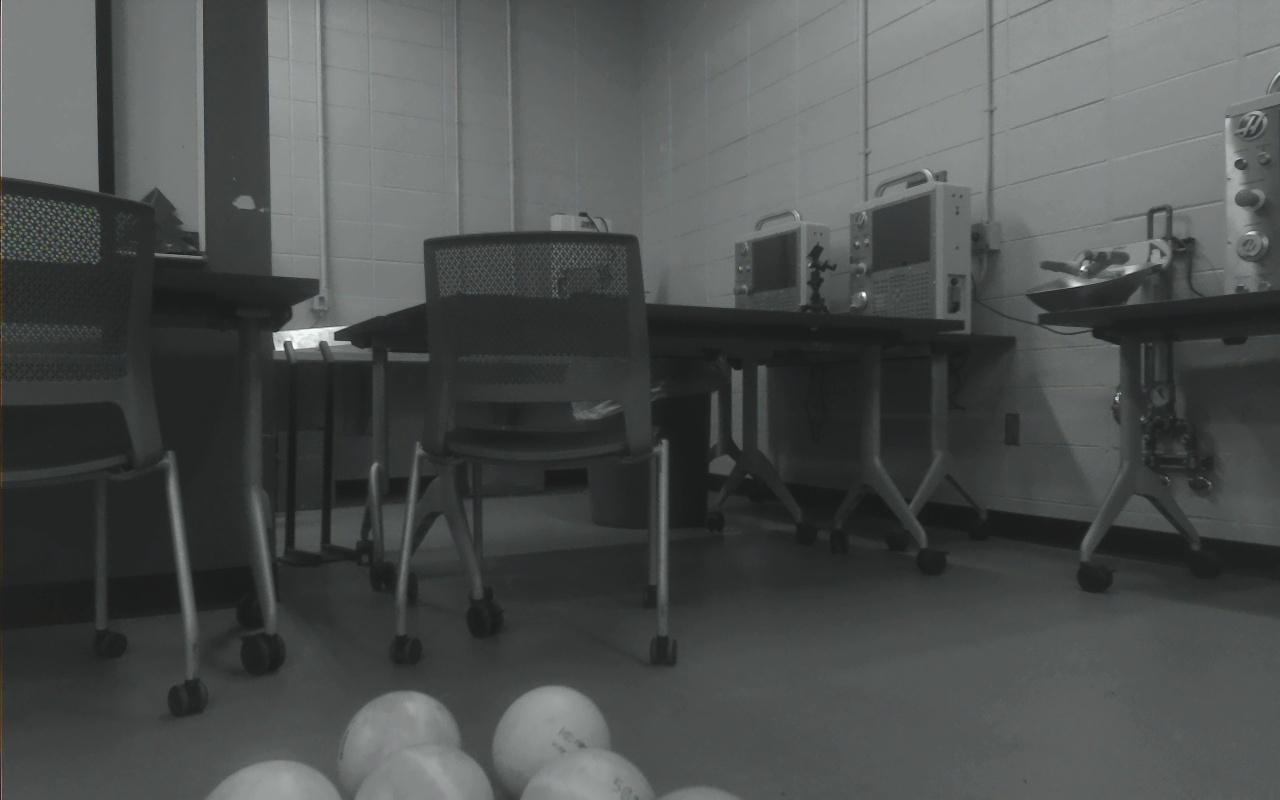Fuel: (492, 684, 611, 799), (339, 691, 461, 800), (353, 742, 495, 800), (518, 747, 655, 800), (204, 759, 342, 800), (657, 785, 741, 800)
